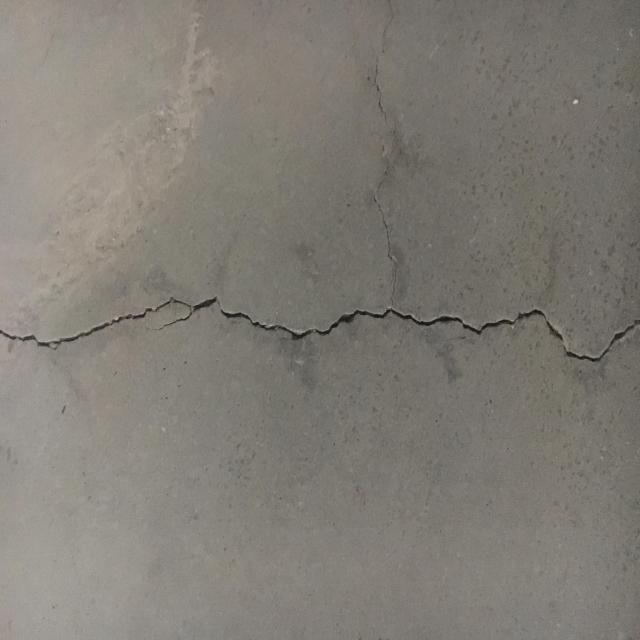Rachadura: (0, 288, 640, 369)
